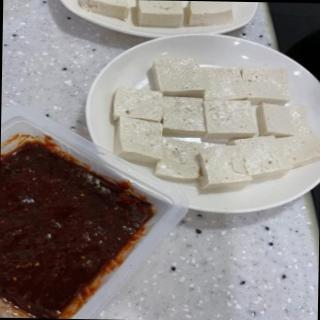Tahu: (112, 60, 320, 185), (79, 1, 234, 27)
